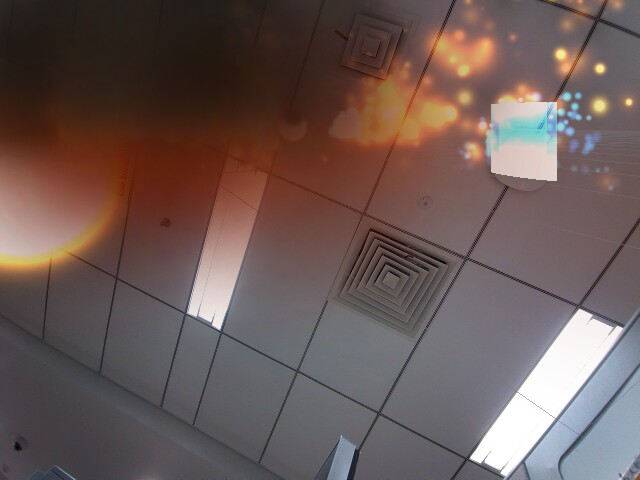fire: (0, 91, 126, 276), (278, 108, 309, 145)
